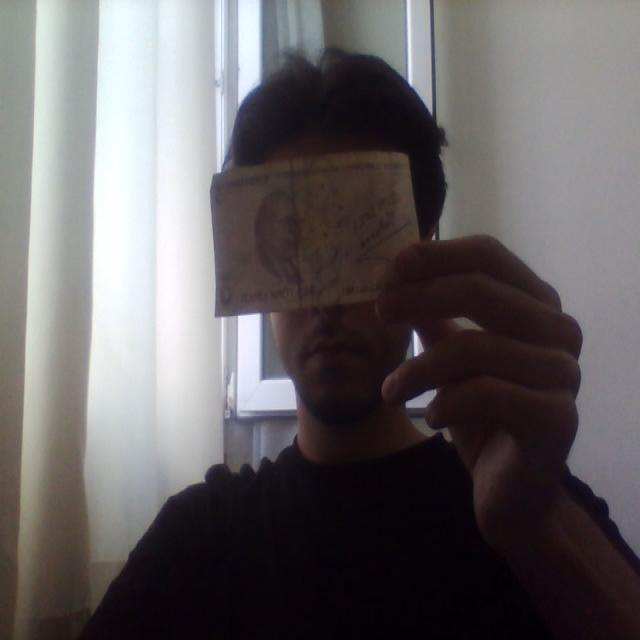5-TL: (211, 152, 423, 318)
